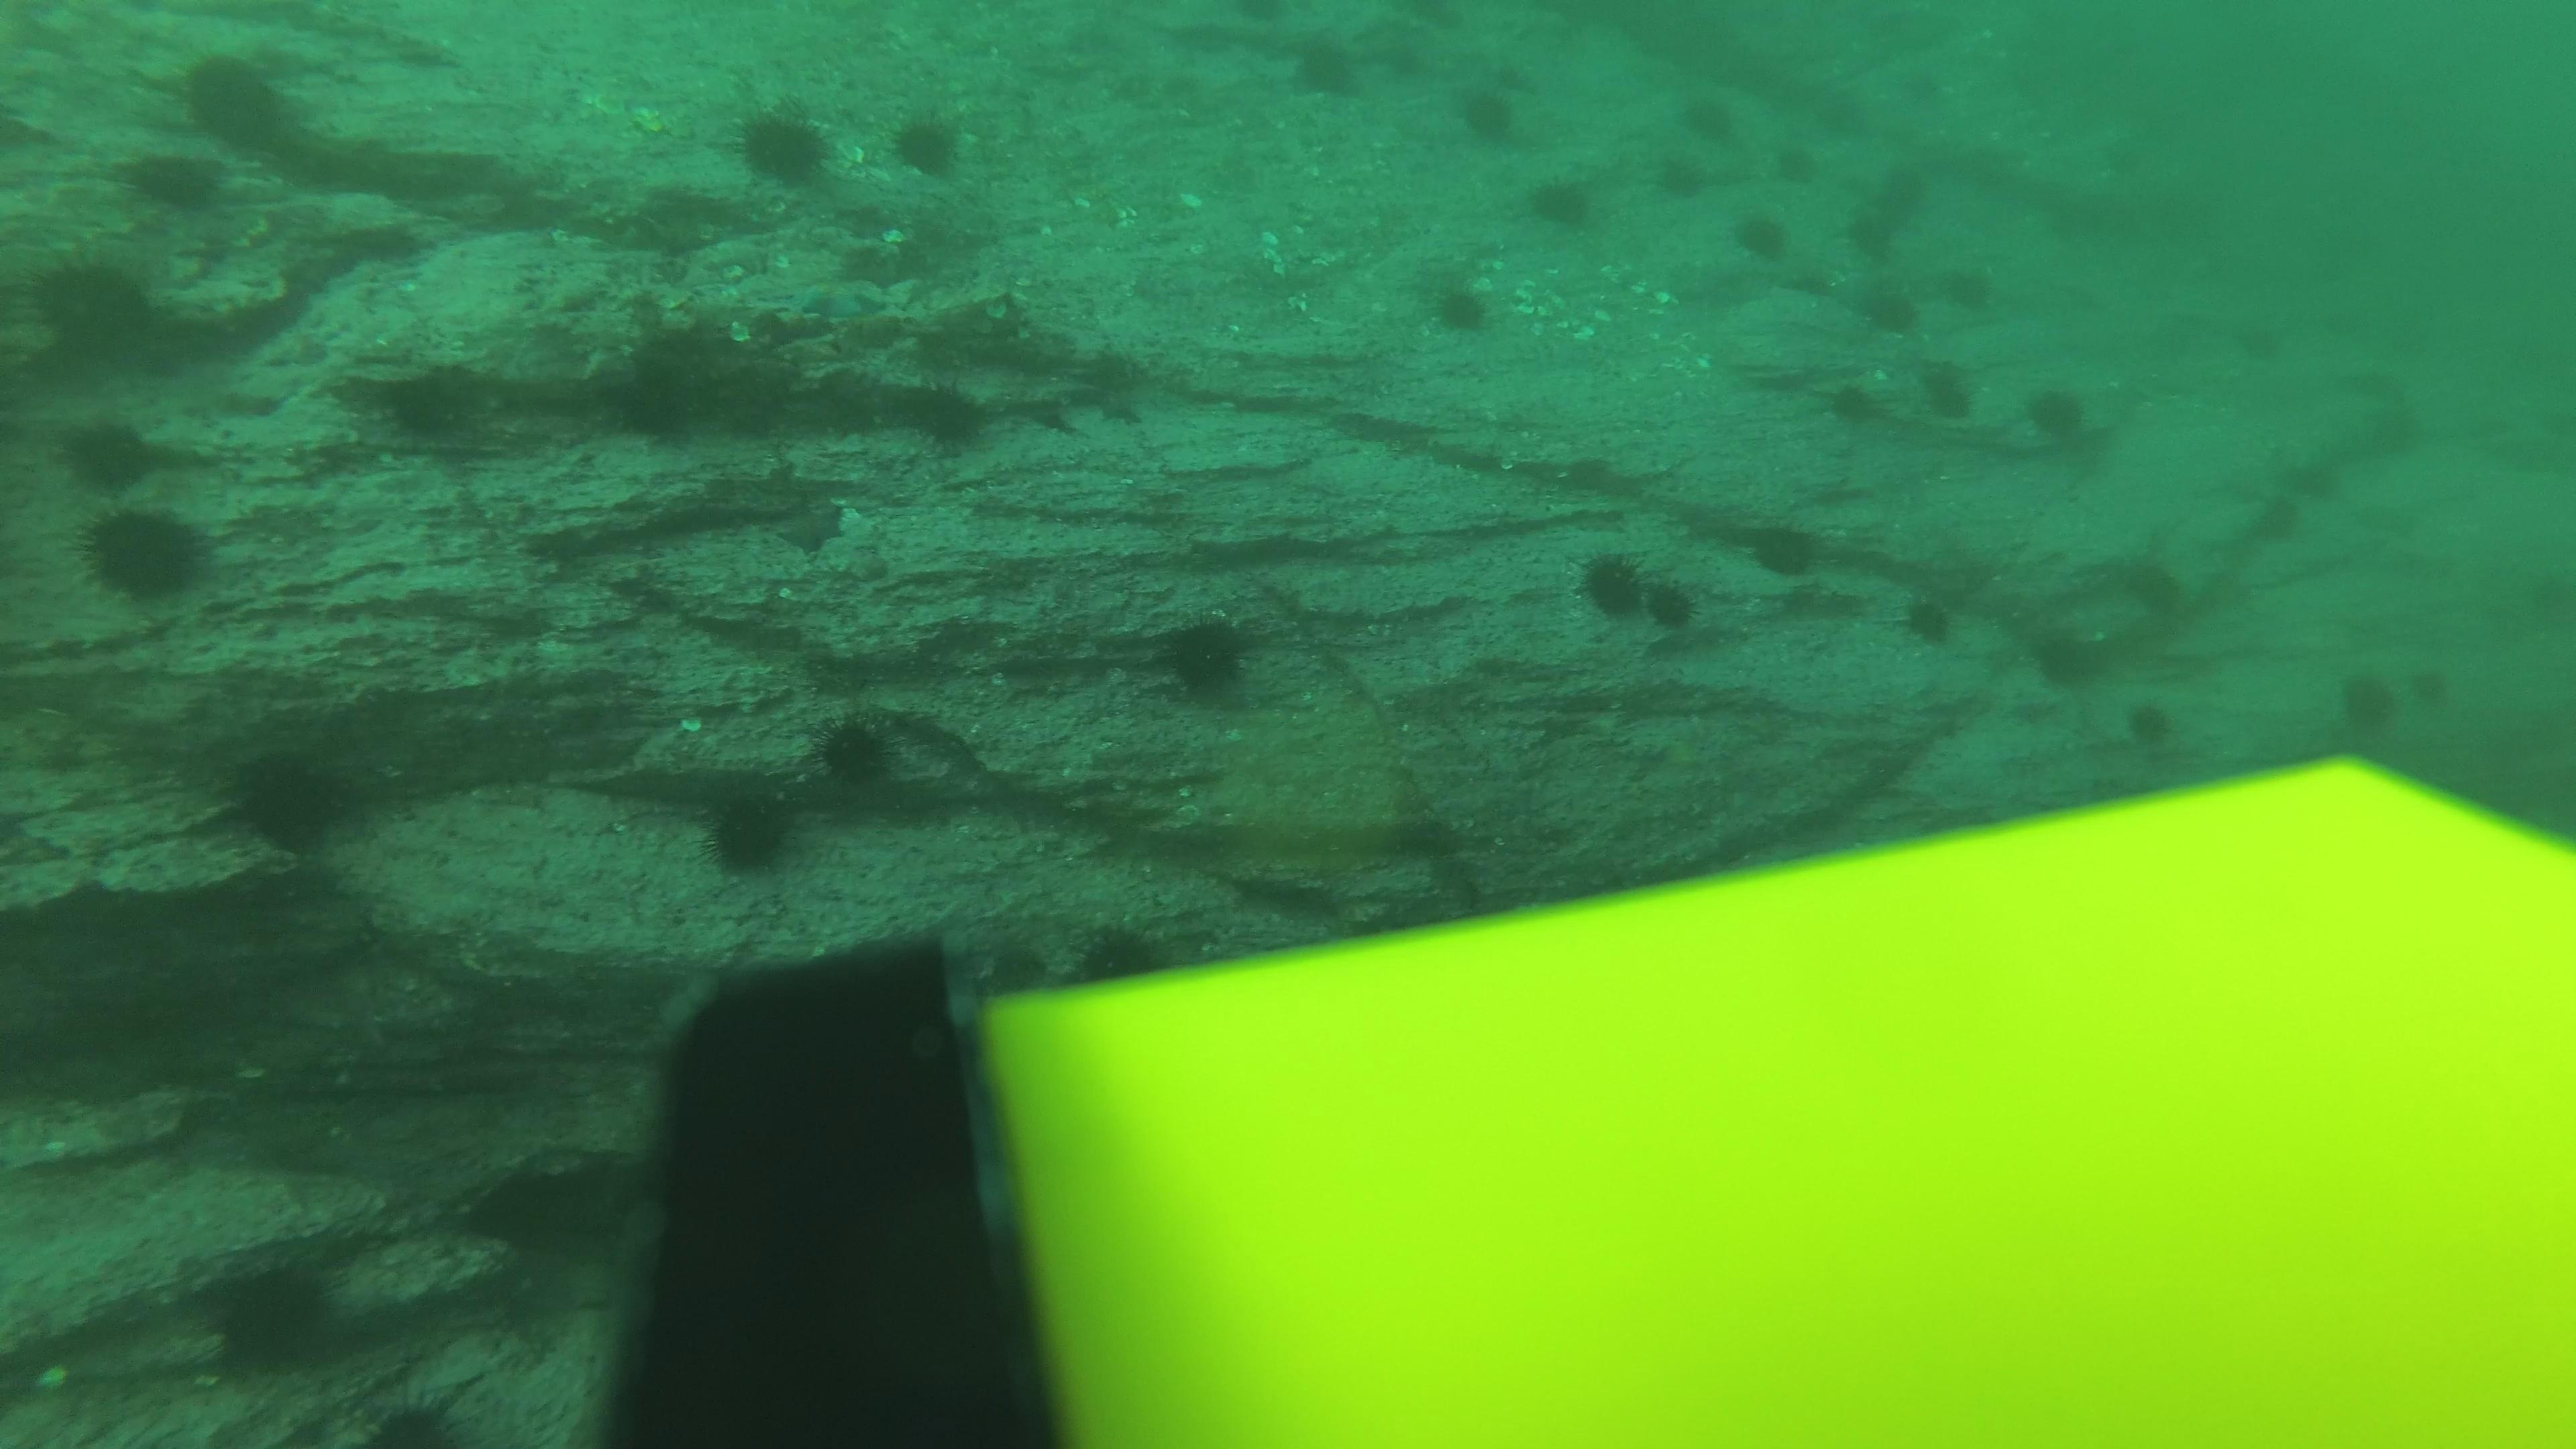echinus: (21, 248, 172, 380), (198, 1253, 345, 1380), (214, 738, 359, 855), (74, 497, 216, 610), (166, 46, 301, 161), (1146, 607, 1270, 713), (368, 359, 497, 453), (692, 780, 809, 883), (725, 94, 839, 191), (51, 409, 170, 497), (803, 708, 909, 800), (117, 140, 234, 219), (1065, 915, 1177, 994), (2017, 377, 2109, 462), (902, 377, 996, 456), (883, 103, 971, 184), (2022, 617, 2112, 694), (2325, 662, 2408, 743), (1281, 30, 1369, 106), (1449, 74, 1530, 152), (1419, 269, 1502, 343), (1741, 513, 1826, 584), (1522, 168, 1603, 239), (1571, 556, 1651, 625), (1893, 586, 1966, 655), (1729, 205, 1792, 267), (1378, 41, 1440, 92), (1651, 156, 1713, 207), (1679, 90, 1741, 142), (1764, 138, 1826, 189), (1645, 577, 1700, 633), (2229, 317, 2282, 364), (2411, 663, 2465, 711), (1826, 375, 1877, 423), (1870, 292, 1921, 340), (1943, 260, 1994, 308), (1872, 195, 1923, 242), (1881, 156, 1932, 203), (2249, 494, 2300, 541), (2132, 568, 2183, 616), (2130, 699, 2181, 747), (2365, 405, 2417, 453), (1847, 214, 1898, 260), (1895, 67, 1946, 113), (2088, 131, 2139, 177), (1934, 387, 1980, 423)
starfish: (770, 267, 897, 331), (770, 494, 855, 557), (699, 230, 784, 283)
